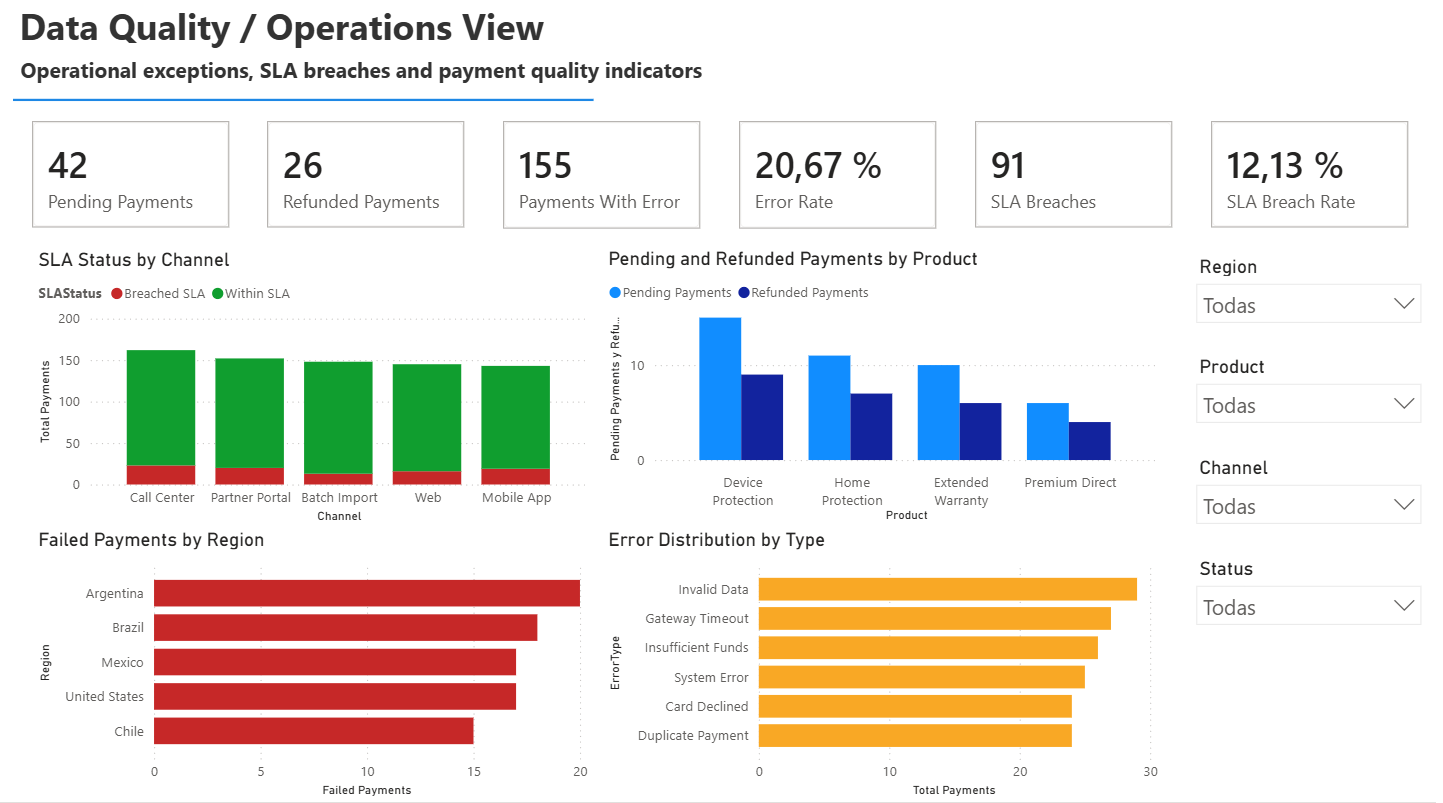

Layout of this report page (visuals, bound fields, positions):
{"tool":"powerbi","page":{"name":"Data Quality / Operations","canvas":[1280,720],"ordinal":1},"visuals":[{"type":"textbox","box":[9.9,0,875.8,56.6],"z":0},{"type":"textbox","box":[10.4,49.1,875.7,59.4],"z":1000},{"type":"shape","box":[8.5,78.3,518.1,30.2],"z":2000},{"type":"cardVisual","fields":{"Data":["Payments.Pending Payments"]},"box":[8.5,95.3,210,129.3],"z":3000},{"type":"cardVisual","fields":{"Data":["Payments.Refunded Payments"]},"box":[218.9,95.3,210.4,129.3],"z":4000},{"type":"cardVisual","fields":{"Data":["Payments.Payments With Error"]},"box":[429.4,95.3,210.4,130.2],"z":5000},{"type":"cardVisual","fields":{"Data":["Payments.Error Rate"]},"box":[639.8,95.3,210.4,130.2],"z":6000},{"type":"cardVisual","fields":{"Data":["Payments.SLA Breaches"]},"box":[850.2,95.3,210.4,129.3],"z":7000},{"type":"cardVisual","fields":{"Data":["Payments.SLA Breach Rate"]},"box":[1060.7,95.3,210.4,129.3],"z":8000},{"type":"columnChart","title":"SLA Status by Channel","fields":{"Category":["Payments.Channel"],"Series":["Payments.SLAStatus"],"Y":["Payments.Total Payments"]},"box":[26.4,225.5,500,250],"z":9000},{"type":"clusteredBarChart","title":"Failed Payments by Region","fields":{"Category":["Payments.Region"],"Y":["Payments.Failed Payments"]},"box":[26.4,475.6,500,244],"z":10000},{"type":"clusteredBarChart","title":"Error Distribution by Type","fields":{"Category":["Payments.ErrorType"],"Y":["Payments.Total Payments"]},"box":[535,475.6,500.1,244.4],"z":10001},{"type":"clusteredColumnChart","title":"Pending and Refunded Payments by Product","fields":{"Category":["Payments.Product"],"Y":["Payments.Pending Payments","Payments.Refunded Payments"]},"box":[535,224.6,500.1,250.1],"z":10002},{"type":"slicer","fields":{"Values":["Payments.Region"]},"box":[1055,226.5,220.8,80],"z":10003},{"type":"slicer","fields":{"Values":["Payments.Product"]},"box":[1055,316.1,220.8,80.2],"z":10004},{"type":"slicer","fields":{"Values":["Payments.Channel"]},"box":[1055,405.7,220.8,80.2],"z":10005},{"type":"slicer","fields":{"Values":["Payments.Status"]},"box":[1055,496.4,220.8,80.2],"z":10006}]}

Visuals, with their boxes in screenshot pixels (x1, y1, x2, y2), scaled from the page's 1280x720 canvas onto the 1443x803 screenshot:
textbox: <bbox>11, 0, 998, 63</bbox>
textbox: <bbox>12, 55, 999, 121</bbox>
shape: <bbox>10, 87, 594, 121</bbox>
cardVisual - Payments.Pending Payments: <bbox>10, 106, 246, 250</bbox>
cardVisual - Payments.Refunded Payments: <bbox>247, 106, 484, 250</bbox>
cardVisual - Payments.Payments With Error: <bbox>484, 106, 721, 251</bbox>
cardVisual - Payments.Error Rate: <bbox>721, 106, 958, 251</bbox>
cardVisual - Payments.SLA Breaches: <bbox>958, 106, 1196, 250</bbox>
cardVisual - Payments.SLA Breach Rate: <bbox>1196, 106, 1433, 250</bbox>
"SLA Status by Channel" columnChart: <bbox>30, 251, 593, 530</bbox>
"Failed Payments by Region" clusteredBarChart: <bbox>30, 530, 593, 802</bbox>
"Error Distribution by Type" clusteredBarChart: <bbox>603, 530, 1167, 802</bbox>
"Pending and Refunded Payments by Product" clusteredColumnChart: <bbox>603, 250, 1167, 529</bbox>
slicer - Payments.Region: <bbox>1189, 253, 1438, 342</bbox>
slicer - Payments.Product: <bbox>1189, 353, 1438, 442</bbox>
slicer - Payments.Channel: <bbox>1189, 452, 1438, 542</bbox>
slicer - Payments.Status: <bbox>1189, 554, 1438, 643</bbox>
